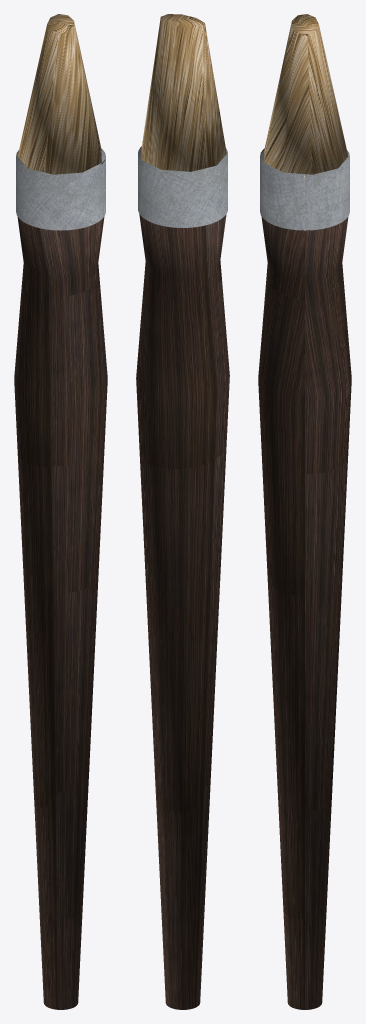
Rendered from kwast 2 .fbx.
3 views of the same model, side by side, from view 1: azimuth 90°, elevation 25°; view 2: azimuth 150°, elevation 25°; view 3: azimuth 270°, elevation 25° (orthographic).
Visible parts, largest first — view 1: brush; view 2: brush; view 3: brush.
Boxes of the visible parts, x1,y1,x2,y2 form: brush: [14, 14, 107, 1009]; brush: [136, 14, 229, 1009]; brush: [258, 14, 351, 1009].
Bounding box in the file's own units: 6.96 × 80.25 × 6.96.
1 material, 1 textured.
